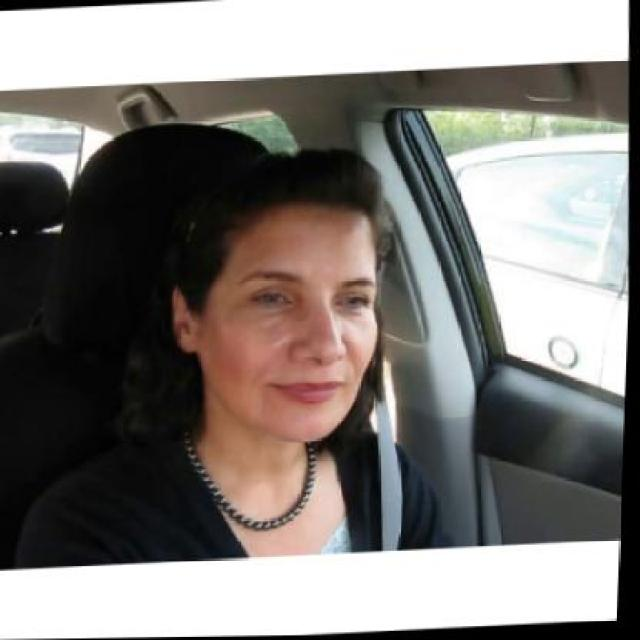attentif: (169, 147, 391, 451)
